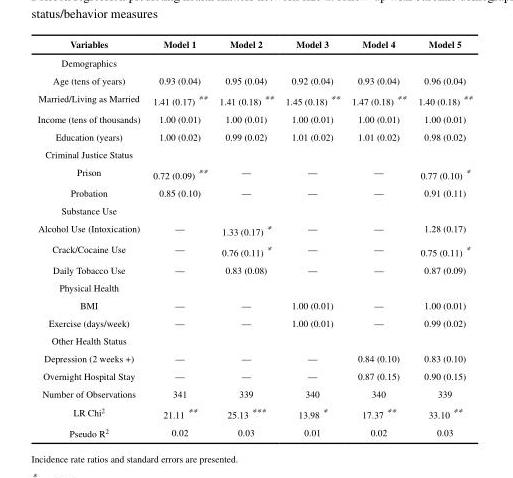table: (36, 37, 474, 438)
table column: (36, 37, 145, 438), (145, 37, 213, 438), (213, 37, 280, 438), (280, 37, 346, 438), (346, 37, 412, 438), (412, 37, 474, 438)
table column header: (36, 37, 474, 53)
table projected row header: (36, 53, 474, 71), (36, 144, 474, 162), (36, 201, 474, 218), (36, 278, 474, 295), (36, 331, 474, 348)
table row: (36, 88, 474, 109), (36, 162, 474, 183), (36, 218, 474, 239), (36, 239, 474, 260), (36, 401, 474, 422), (36, 53, 474, 71), (36, 109, 474, 127), (36, 144, 474, 162), (36, 183, 474, 201), (36, 260, 474, 278), (36, 295, 474, 313), (36, 313, 474, 331), (36, 348, 474, 366), (36, 366, 474, 384), (36, 71, 474, 88), (36, 127, 474, 144), (36, 201, 474, 218), (36, 278, 474, 295), (36, 331, 474, 348), (36, 384, 474, 401), (36, 37, 474, 53), (36, 422, 474, 438)
